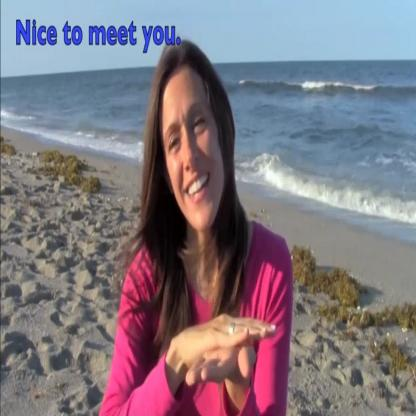NiceToMeetYou: (159, 311, 296, 413)
